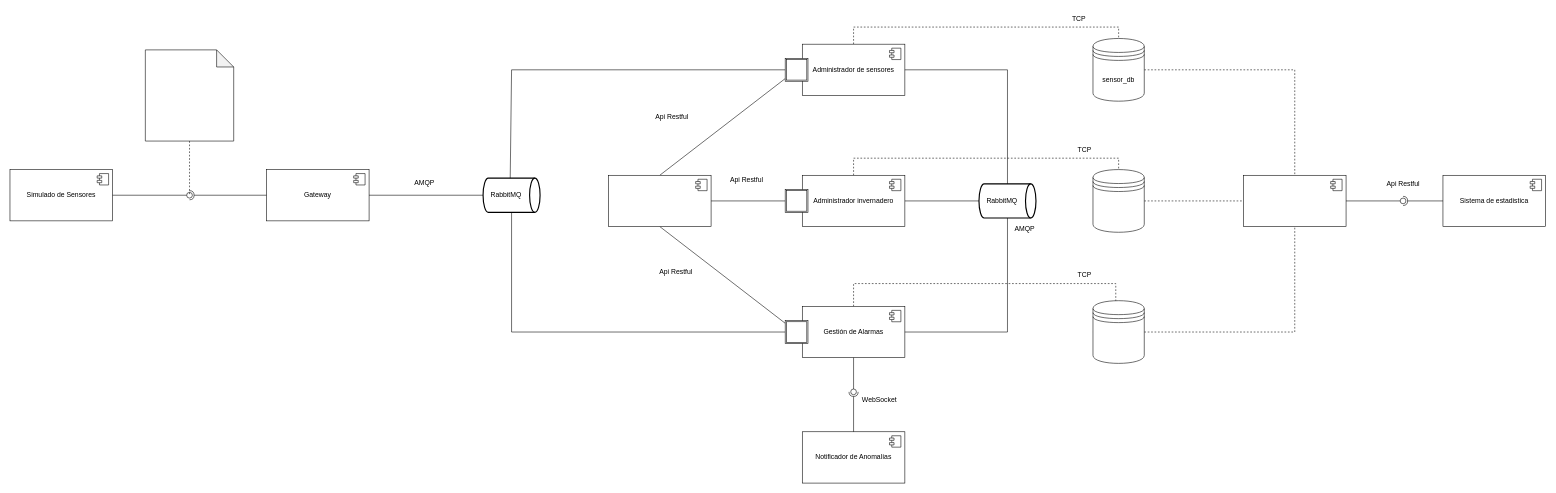
This 1556x493 diagram has some shape labels left out. Here are the shapes that lost their labels. From the top down, the centre of each, then its label:
[189,95]: Protocolos Mqqt Coap
[659,201]: Api Gateway
[1118,200]: invernadero_db
[1294,201]: ETL
[1118,331]: alarma_db
